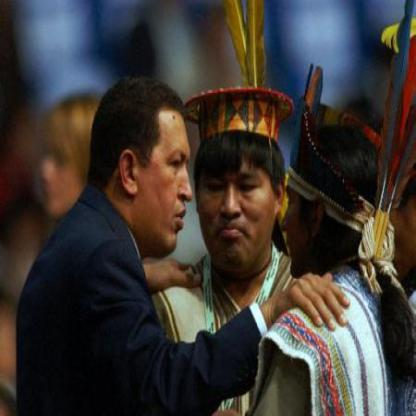face: (196, 108, 278, 274), (138, 91, 203, 257), (37, 103, 93, 222)
